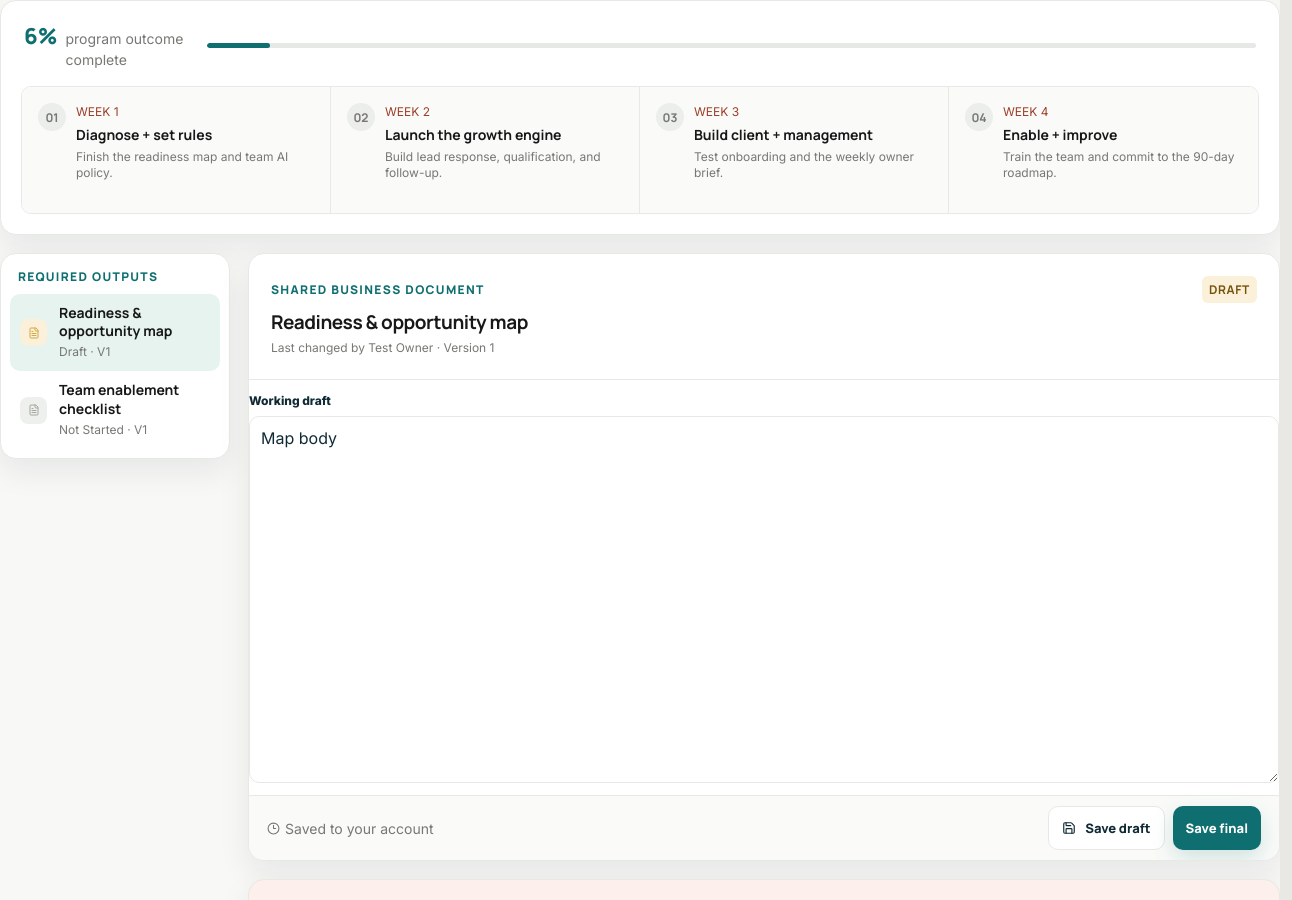
Test: ImplementationPlan › switches the open document from the output list
Step 1. Click the button "Team enablement checklist not started · v1" → (115, 410), box [10,371,220,449]
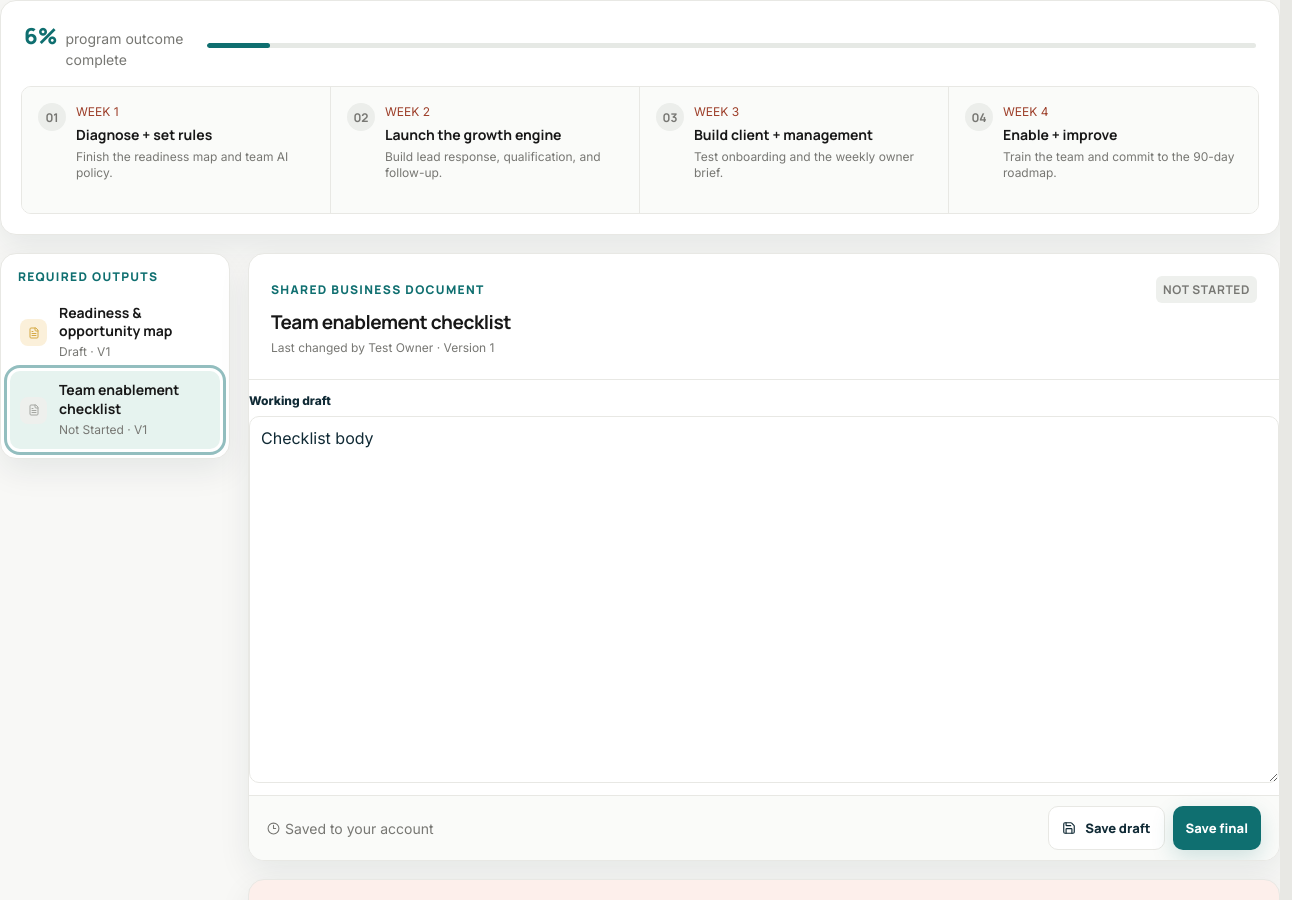
Check: the heading "Team enablement checklist" is shown, box [271,309,511,335]
Check: the text box named "team enablement checklist draft" holds "Checklist body", box [249,416,1279,783]
